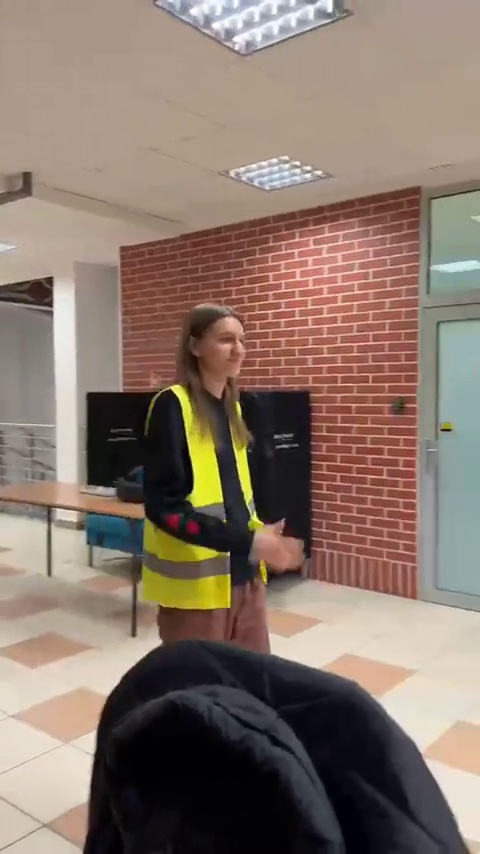vest: (142, 301, 301, 647)
